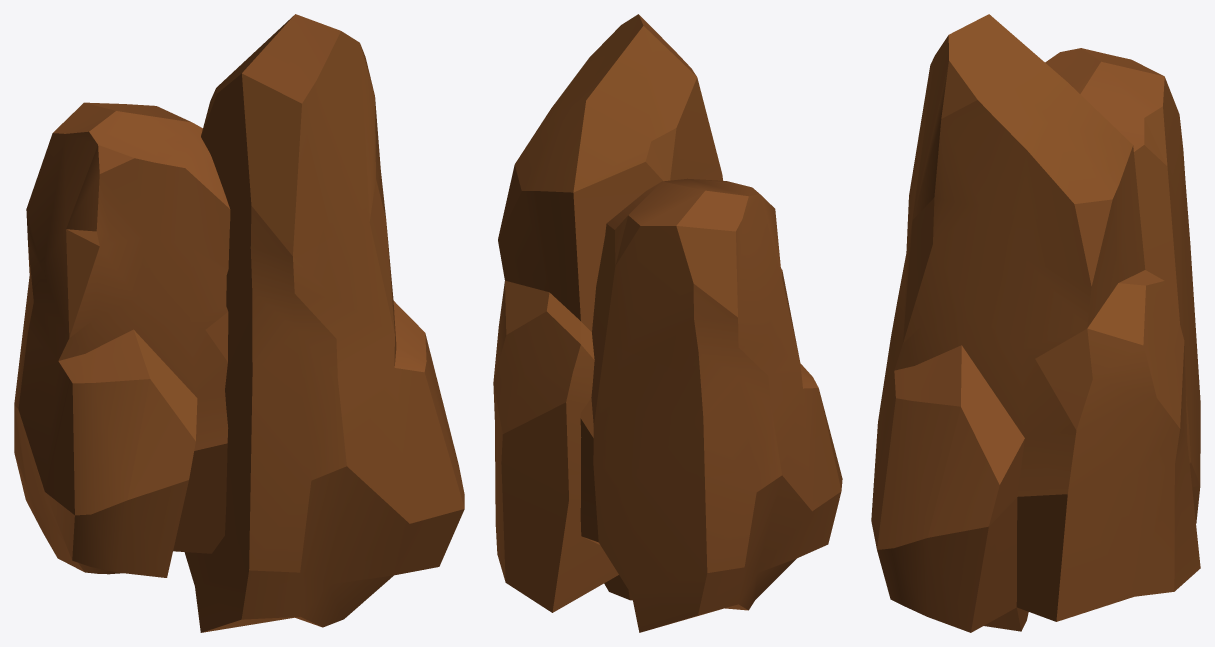
Rendered from Rock-transformed.glb.
3 views of the same model, side by side, from view 1: azimuth 30°, elevation 25°; view 2: azimuth 150°, elevation 25°; view 3: azimuth 270°, elevation 25° (orthographic). The views are drawn at different scales.
Parts seen in each view (by area): view 1: Rock_4; view 2: Rock_4; view 3: Rock_4.
Boxes of the visible parts, x1,y1,x2,y2 form: Rock_4: [14, 14, 464, 632]; Rock_4: [493, 14, 842, 632]; Rock_4: [871, 14, 1200, 632].
Size of the model in its own units: 2.16 by 3.46 by 1.7.
Materials: 1 (1 with a texture image).
